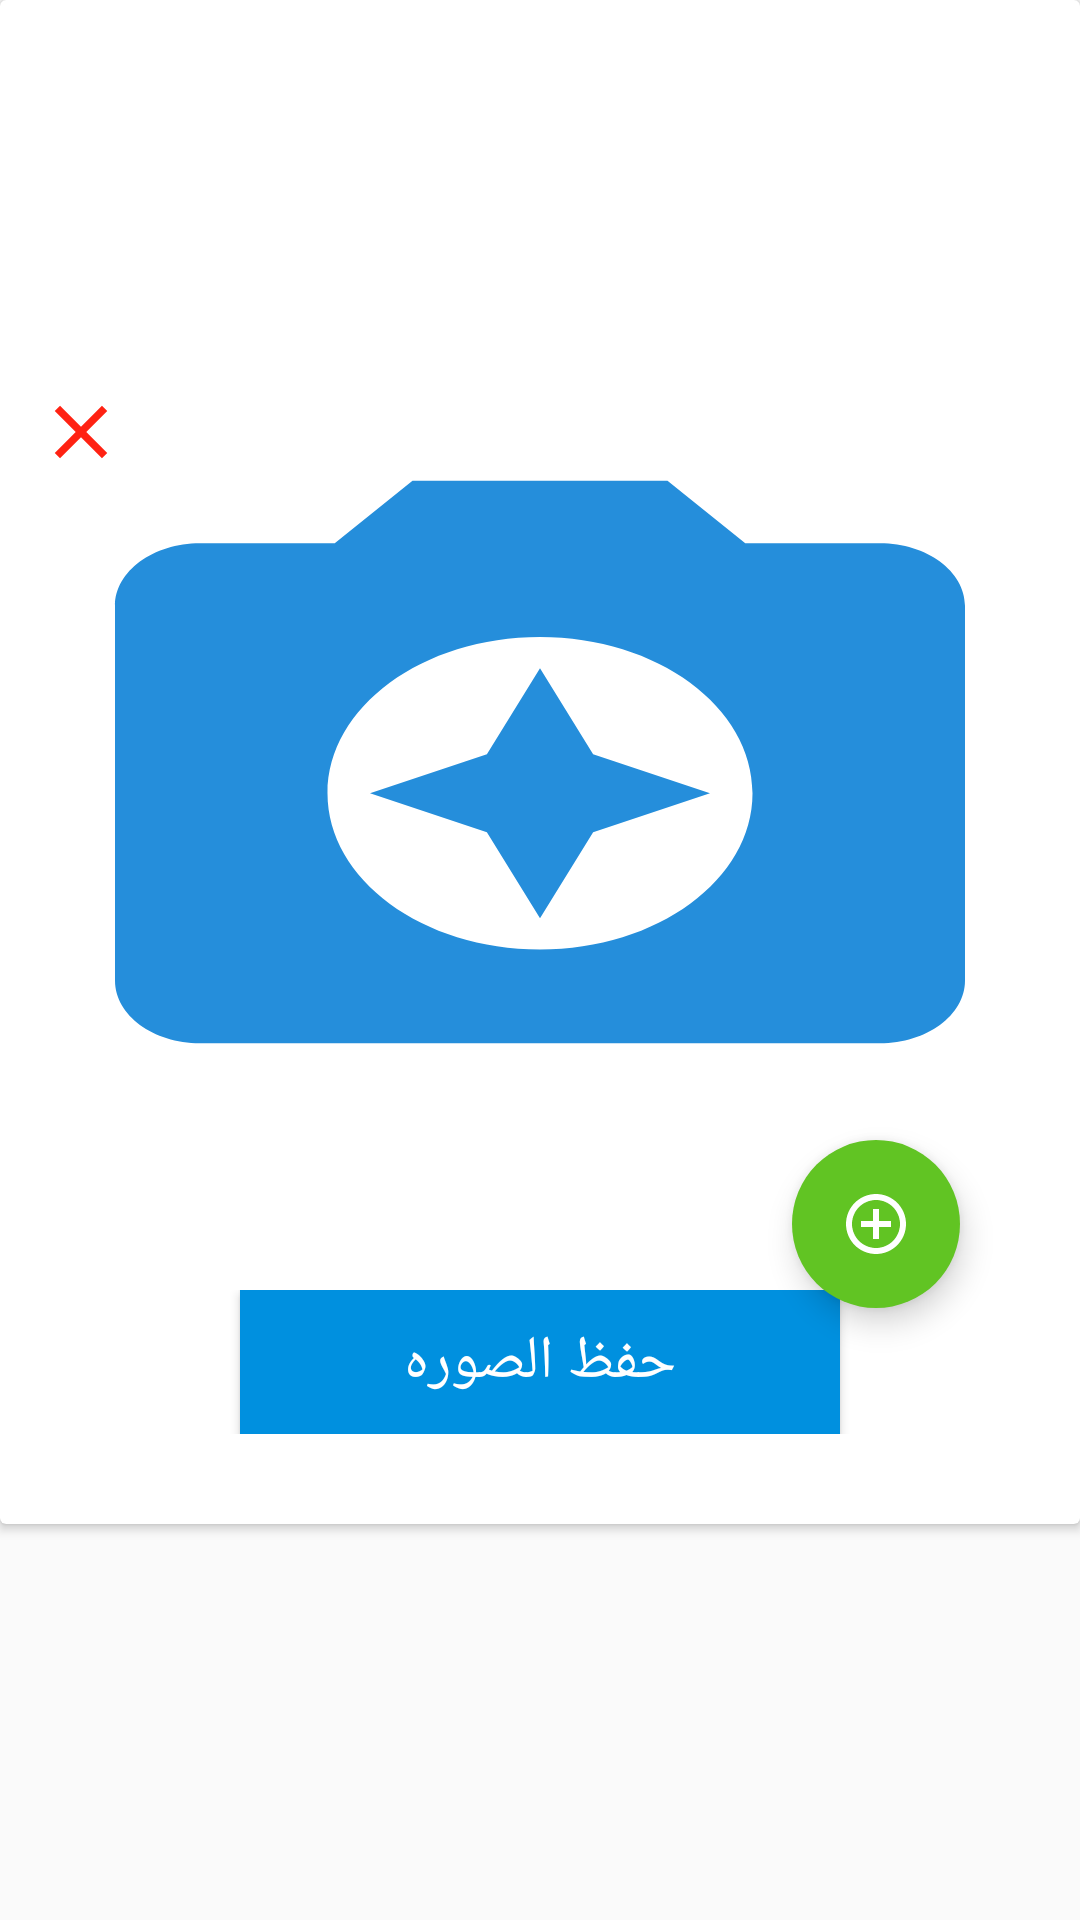

Point at icon controls on the screen. Image size 1080*1920, points as (x,y).
add circle: (876,1224)
clear read: (81,432)
